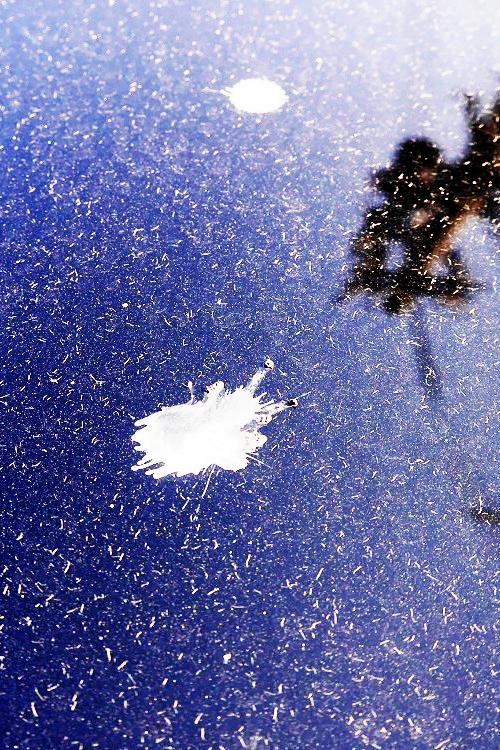Bird Poop: (132, 370, 296, 478), (221, 79, 287, 113)
